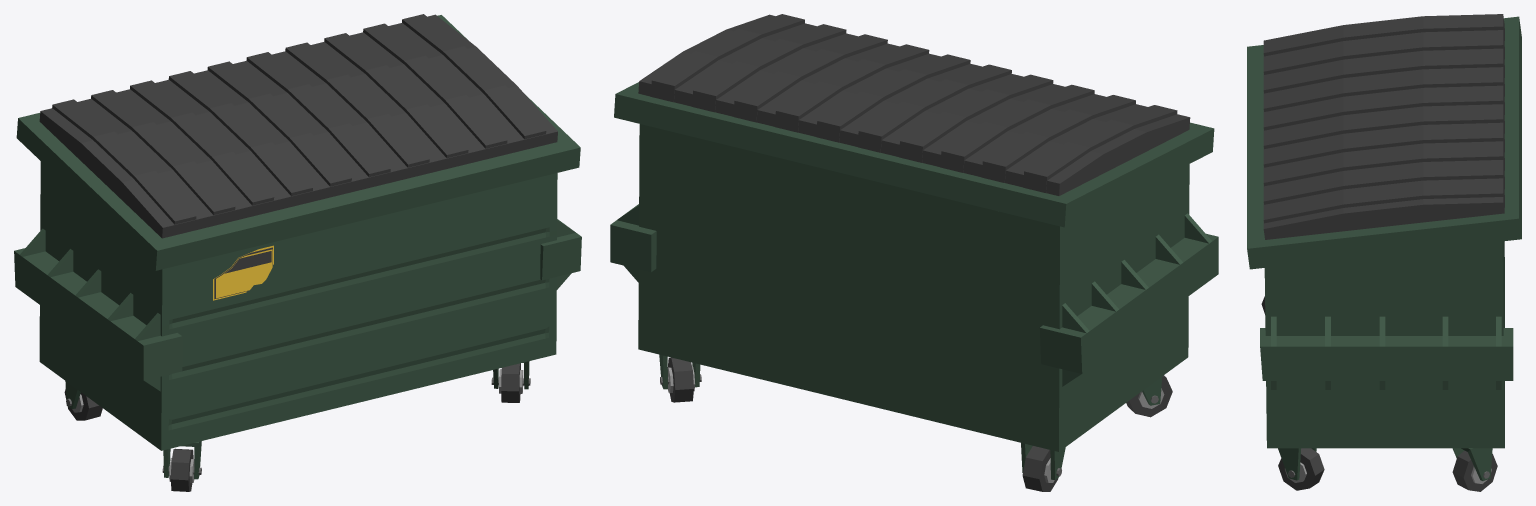
The model's file is dumpster.glb.
3 views of the same model, side by side, from view 1: azimuth 30°, elevation 25°; view 2: azimuth 150°, elevation 25°; view 3: azimuth 270°, elevation 25° (orthographic). The views are drawn at different scales.
Visible parts, largest first — view 1: Cube.015; view 2: Cube.015; view 3: Cube.015.
Part boxes in pixels (bbox=[...]): Cube.015: bbox=[14, 14, 581, 491]; Cube.015: bbox=[610, 14, 1218, 491]; Cube.015: bbox=[1247, 14, 1521, 491].
Bounding box in the file's own units: 272 × 182 × 150.
